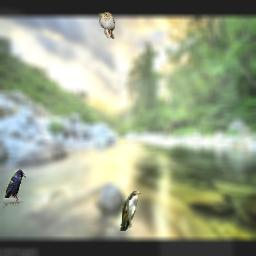Crow: (3, 169, 26, 209)
Cuckoo: (120, 191, 141, 231)
Sparrow: (99, 12, 115, 39)
